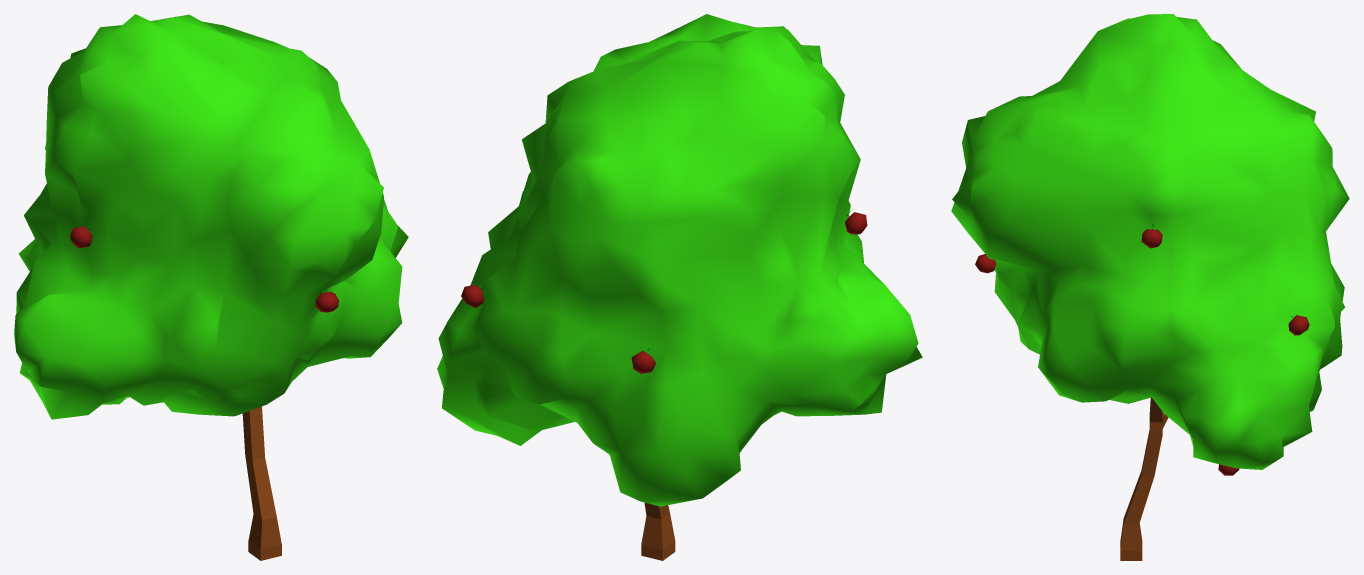
The model's file is SM_AppleTree_002_LOD2.fbx.
3 views of the same model, side by side, from view 1: azimuth 30°, elevation 25°; view 2: azimuth 150°, elevation 25°; view 3: azimuth 270°, elevation 25° (orthographic). The views are drawn at different scales.
Parts seen in each view (by area): view 1: AppleTree_02; view 2: AppleTree_02; view 3: AppleTree_02.
Boxes of the visible parts, box(x1,y1,x2,y2) form: AppleTree_02: box(14, 14, 408, 560); AppleTree_02: box(437, 14, 922, 560); AppleTree_02: box(951, 14, 1349, 560).
Bounding box in the file's own units: 355 × 450 × 328.
